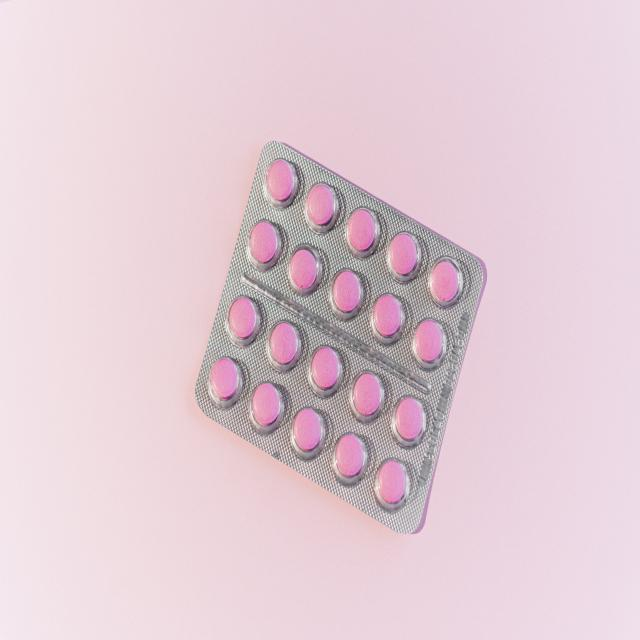Pill: (332, 424, 370, 488), (428, 246, 464, 309), (290, 395, 324, 461), (226, 283, 261, 347), (341, 203, 381, 256), (248, 376, 282, 438), (246, 216, 282, 274), (266, 146, 298, 210), (372, 282, 406, 342), (349, 368, 386, 421), (386, 226, 421, 282), (291, 236, 322, 298), (416, 306, 448, 366), (330, 262, 364, 318), (307, 171, 338, 232), (376, 456, 410, 510), (312, 338, 342, 395), (209, 354, 242, 404), (272, 312, 298, 368), (398, 382, 423, 440)
